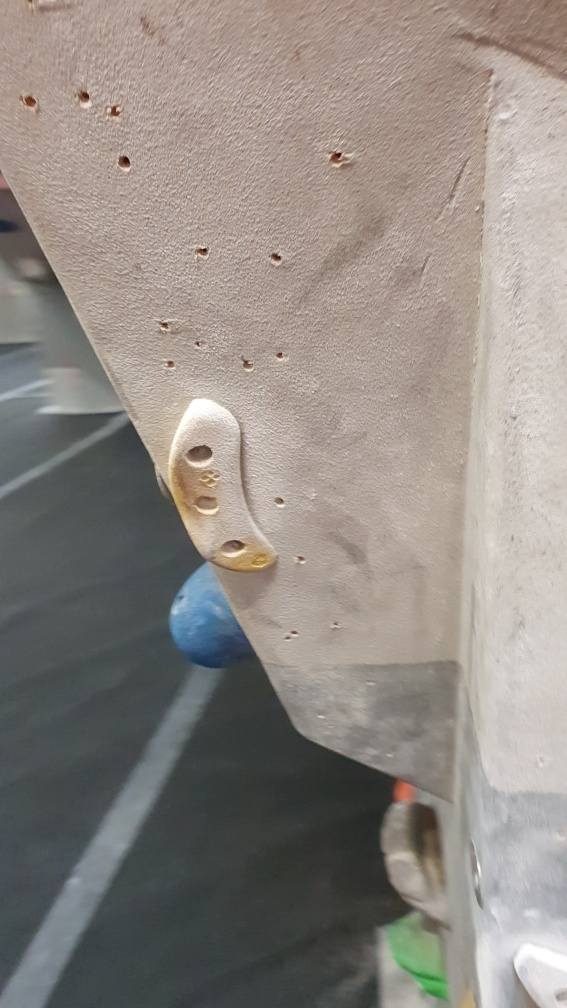Jug: (375, 800, 458, 928)
